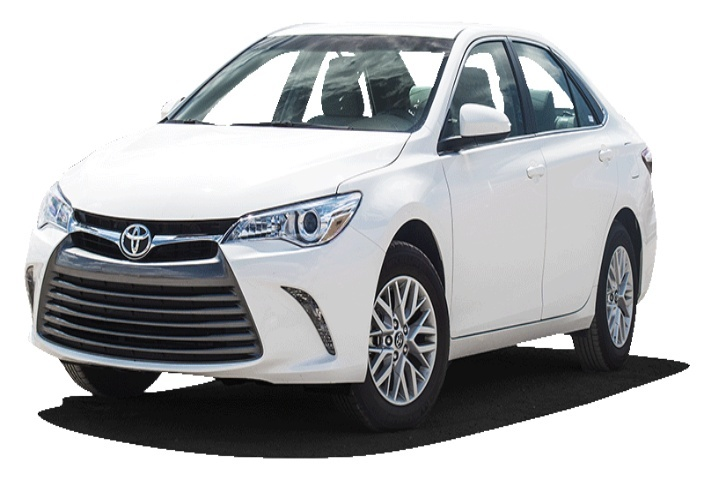car: (19, 11, 685, 424)
